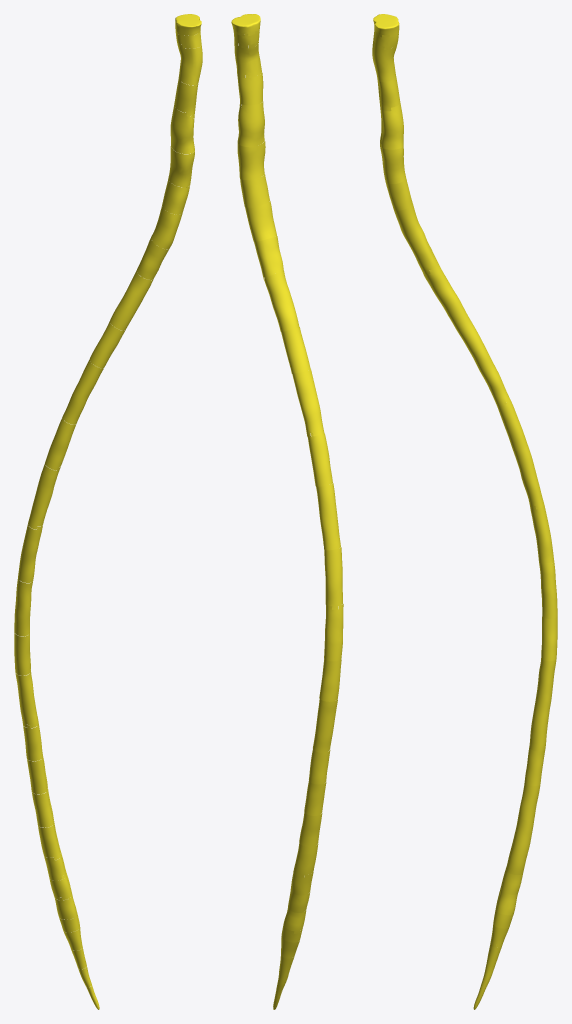
Rendered from vh_m_spinal_cord-80.glb.
3 renders of one model, left to right at view 1: azimuth 90°, elevation 25°; view 2: azimuth 210°, elevation 25°; view 3: azimuth 270°, elevation 25°, orthographic. The views are drawn at different scales.
Visible parts, largest first — view 1: VH_M_second_thoracic_spinal_cord_segment, VH_M_fourth_thoracic_spinal_cord_segment, VH_M_sixth_thoracic_spinal_cord_segment, VH_M_C5_segment_of_cervical_spinal_cord, VH_M_seventh_thoracic_spinal_cord_segment, VH_M_eighth_thoracic_spinal_cord_segment, VH_M_tenth_thoracic_spinal_cord_segment, VH_M_C3_segment_of_cervical_spinal_cord, VH_M_fifth_thoracic_spinal_cord_segment, VH_M_C8_segment_of_cervical_spinal_cord, VH_M_C6_segment_of_cervical_spinal_cord, VH_M_third_thoracic_spinal_cord_segment (+9 smaller); view 2: VH_M_fourth_thoracic_spinal_cord_segment, VH_M_second_thoracic_spinal_cord_segment, VH_M_sixth_thoracic_spinal_cord_segment, VH_M_C5_segment_of_cervical_spinal_cord, VH_M_seventh_thoracic_spinal_cord_segment, VH_M_eighth_thoracic_spinal_cord_segment, VH_M_fifth_thoracic_spinal_cord_segment, VH_M_tenth_thoracic_spinal_cord_segment, VH_M_C8_segment_of_cervical_spinal_cord, VH_M_C6_segment_of_cervical_spinal_cord, VH_M_third_thoracic_spinal_cord_segment, VH_M_first_thoracic_spinal_cord_segment (+13 smaller); view 3: VH_M_second_thoracic_spinal_cord_segment, VH_M_fourth_thoracic_spinal_cord_segment, VH_M_sixth_thoracic_spinal_cord_segment, VH_M_C5_segment_of_cervical_spinal_cord, VH_M_tenth_thoracic_spinal_cord_segment, VH_M_seventh_thoracic_spinal_cord_segment, VH_M_eighth_thoracic_spinal_cord_segment, VH_M_fifth_thoracic_spinal_cord_segment, VH_M_C6_segment_of_cervical_spinal_cord, VH_M_C3_segment_of_cervical_spinal_cord, VH_M_third_thoracic_spinal_cord_segment, VH_M_ninth_thoracic_spinal_cord_segment (+9 smaller).
Part boxes in pixels (x1,y1,x2,y2): VH_M_second_thoracic_spinal_cord_segment: [110, 270, 152, 330]; VH_M_fourth_thoracic_spinal_cord_segment: [62, 359, 103, 424]; VH_M_sixth_thoracic_spinal_cord_segment: [28, 464, 60, 529]; VH_M_C5_segment_of_cervical_spinal_cord: [170, 105, 194, 153]; VH_M_seventh_thoracic_spinal_cord_segment: [18, 524, 42, 582]; VH_M_eighth_thoracic_spinal_cord_segment: [14, 578, 32, 636]; VH_M_tenth_thoracic_spinal_cord_segment: [15, 670, 38, 728]; VH_M_C3_segment_of_cervical_spinal_cord: [177, 42, 202, 85]; VH_M_fifth_thoracic_spinal_cord_segment: [45, 417, 75, 470]; VH_M_C8_segment_of_cervical_spinal_cord: [151, 206, 182, 249]; VH_M_C6_segment_of_cervical_spinal_cord: [168, 146, 194, 187]; VH_M_third_thoracic_spinal_cord_segment: [89, 321, 124, 368]; VH_M_fourth_thoracic_spinal_cord_segment: [292, 369, 324, 436]; VH_M_second_thoracic_spinal_cord_segment: [264, 271, 299, 331]; VH_M_sixth_thoracic_spinal_cord_segment: [316, 483, 340, 550]; VH_M_C5_segment_of_cervical_spinal_cord: [237, 101, 264, 147]; VH_M_seventh_thoracic_spinal_cord_segment: [324, 547, 342, 609]; VH_M_eighth_thoracic_spinal_cord_segment: [324, 604, 343, 661]; VH_M_fifth_thoracic_spinal_cord_segment: [307, 433, 332, 486]; VH_M_tenth_thoracic_spinal_cord_segment: [313, 699, 337, 752]; VH_M_C8_segment_of_cervical_spinal_cord: [245, 201, 276, 241]; VH_M_C6_segment_of_cervical_spinal_cord: [237, 141, 265, 179]; VH_M_third_thoracic_spinal_cord_segment: [281, 327, 310, 373]; VH_M_first_thoracic_spinal_cord_segment: [254, 236, 283, 280]; VH_M_second_thoracic_spinal_cord_segment: [422, 261, 463, 317]; VH_M_fourth_thoracic_spinal_cord_segment: [470, 343, 510, 406]; VH_M_sixth_thoracic_spinal_cord_segment: [512, 445, 544, 509]; VH_M_C5_segment_of_cervical_spinal_cord: [380, 103, 403, 149]; VH_M_tenth_thoracic_spinal_cord_segment: [533, 658, 556, 716]; VH_M_seventh_thoracic_spinal_cord_segment: [529, 502, 554, 564]; VH_M_eighth_thoracic_spinal_cord_segment: [539, 562, 557, 618]; VH_M_fifth_thoracic_spinal_cord_segment: [497, 399, 527, 450]; VH_M_C6_segment_of_cervical_spinal_cord: [380, 143, 405, 183]; VH_M_C3_segment_of_cervical_spinal_cord: [372, 41, 396, 81]; VH_M_third_thoracic_spinal_cord_segment: [449, 308, 483, 352]; VH_M_ninth_thoracic_spinal_cord_segment: [541, 614, 557, 661].
Bounding box in the file's own units: 0.0207 × 0.4652 × 0.0796.
